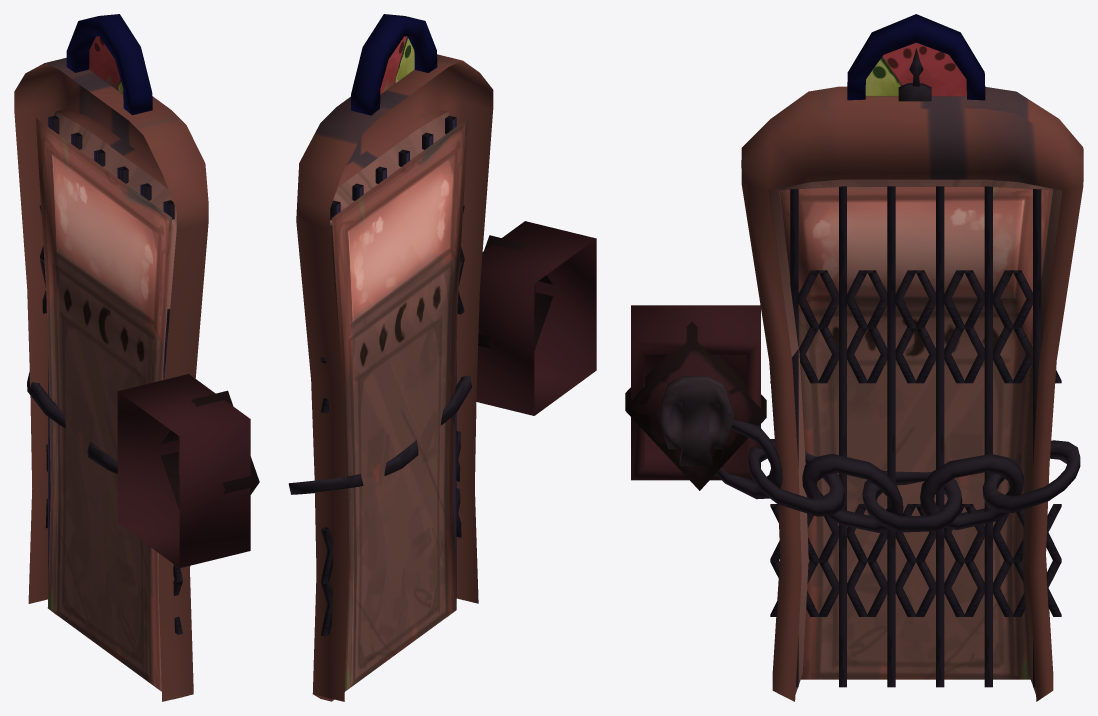
File: PortaGrande.fbx
3 views of the same model, side by side, from view 1: azimuth 30°, elevation 25°; view 2: azimuth 150°, elevation 25°; view 3: azimuth 270°, elevation 25° (orthographic). The views are drawn at different scales.
Parts seen in each view (by area): view 1: Porta, Grade, Correntes; view 2: Porta, Grade, Correntes; view 3: Porta, Grade, Correntes.
Boxes of the visible parts, box(x1,y1,x2,y2) form: Porta: box(14, 14, 259, 701); Grade: box(39, 115, 182, 634); Correntes: box(27, 372, 117, 473); Porta: box(296, 14, 596, 701); Grade: box(320, 115, 464, 636); Correntes: box(288, 375, 471, 494); Porta: box(625, 14, 1083, 701); Grade: box(770, 186, 1061, 687); Correntes: box(716, 420, 1080, 532).
Bounding box in the file's own units: 86.76 × 278 × 451.
